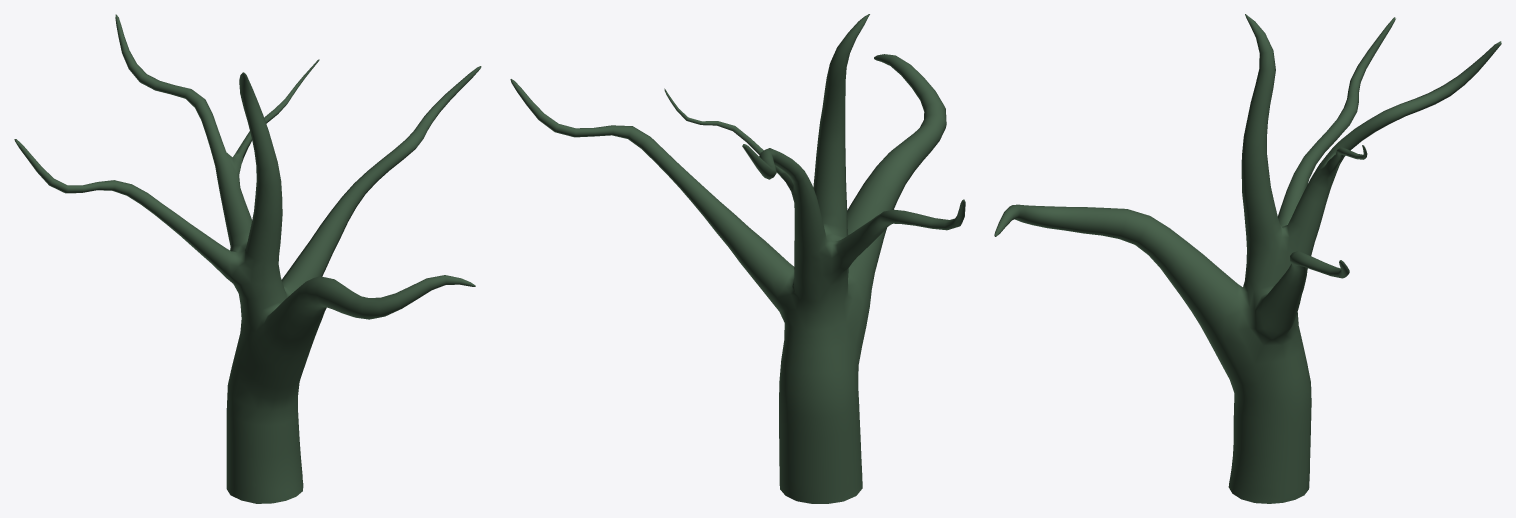
File: Tree1.fbx
3 renders of one model, left to right at view 1: azimuth 30°, elevation 25°; view 2: azimuth 150°, elevation 25°; view 3: azimuth 270°, elevation 25°, orthographic. The views are drawn at different scales.
Visible parts, largest first — view 1: rock1LP:Tree1LP; view 2: rock1LP:Tree1LP; view 3: rock1LP:Tree1LP.
Part boxes in pixels (x1,y1,x2,y2): rock1LP:Tree1LP: [14, 14, 481, 503]; rock1LP:Tree1LP: [510, 14, 965, 503]; rock1LP:Tree1LP: [994, 14, 1501, 503].
Size of the model in its own units: 18.91 by 17.71 by 17.85.
